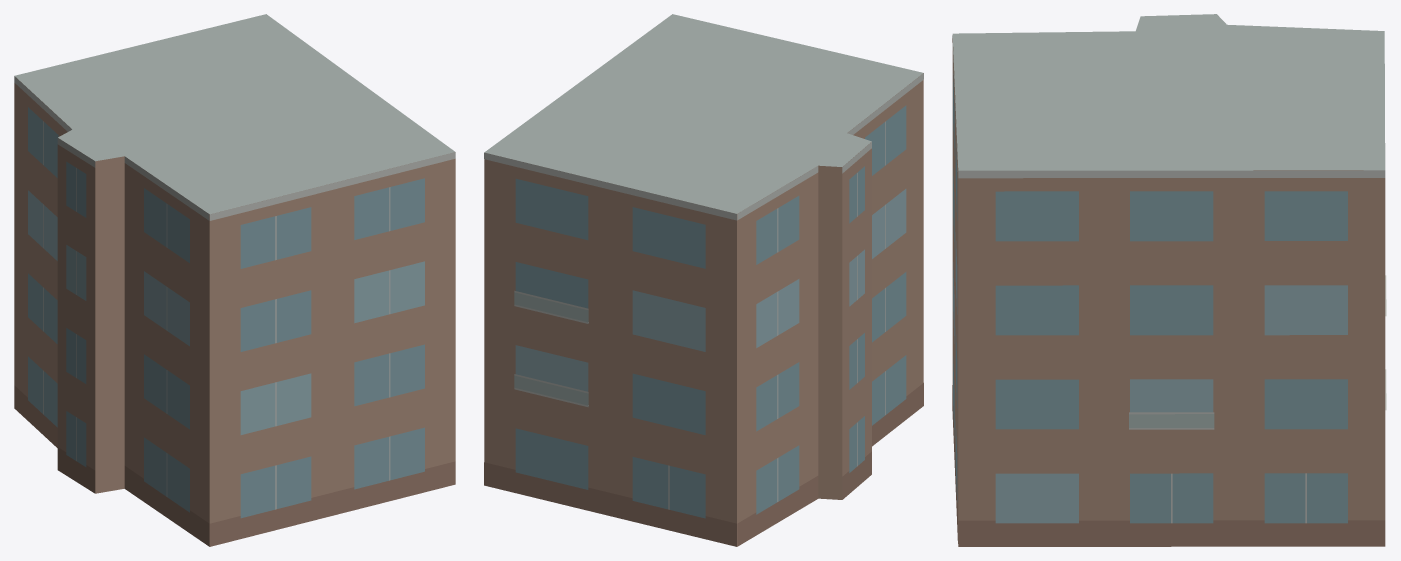
Rendered from survey-upis-32706659.glb.
The picture shows the model from 3 angles, left to right: view 1: azimuth 30°, elevation 25°; view 2: azimuth 150°, elevation 25°; view 3: azimuth 270°, elevation 25°; orthographic projection. The views are drawn at different scales.
Parts seen in each view (by area): view 1: survey-upis-32706659.tmp; view 2: survey-upis-32706659.tmp; view 3: survey-upis-32706659.tmp.
Boxes of the visible parts, box(x1,y1,x2,y2) form: survey-upis-32706659.tmp: box(14, 14, 455, 546); survey-upis-32706659.tmp: box(484, 14, 923, 546); survey-upis-32706659.tmp: box(952, 14, 1386, 546).
Size of the model in its own units: 10.93 by 12.2 by 12.76.
